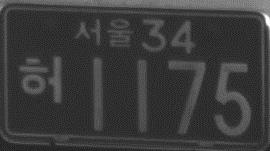1: (132, 56, 155, 138), (89, 54, 109, 134)
3: (140, 16, 168, 52)
4: (169, 19, 196, 56)
5: (213, 59, 253, 137)
7: (164, 56, 209, 136)
서울_O: (74, 16, 134, 51)
허: (17, 53, 64, 106)
